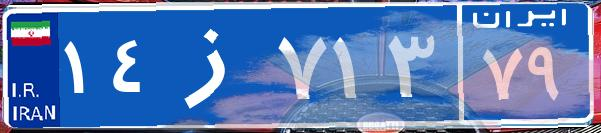1: (330, 28, 385, 110), (57, 26, 110, 107)
3: (385, 28, 445, 110)
4: (110, 28, 158, 105)
7: (273, 28, 330, 110), (475, 38, 525, 113)
9: (525, 38, 570, 115)
ز: (158, 15, 273, 115)
